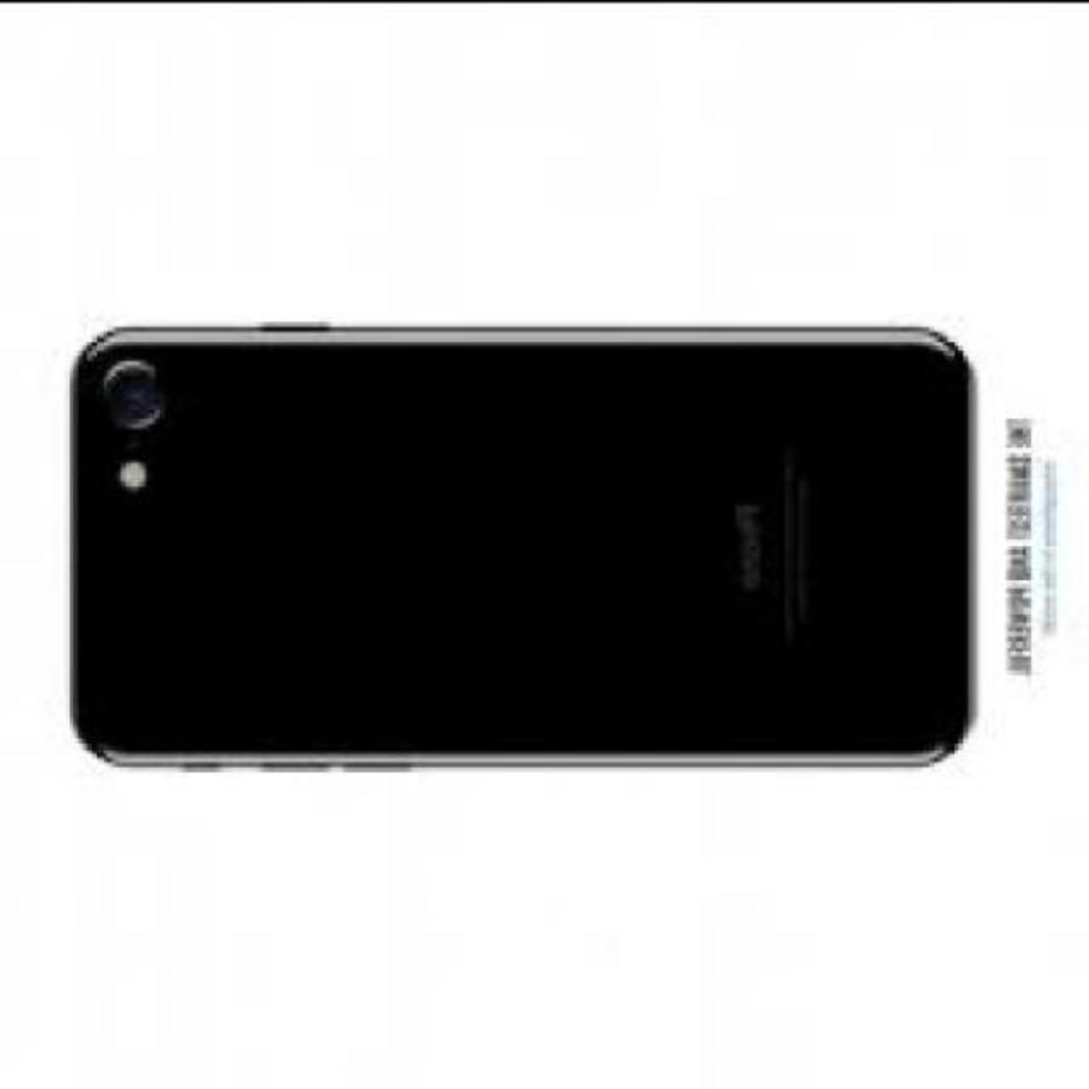phone: (67, 324, 974, 765)
